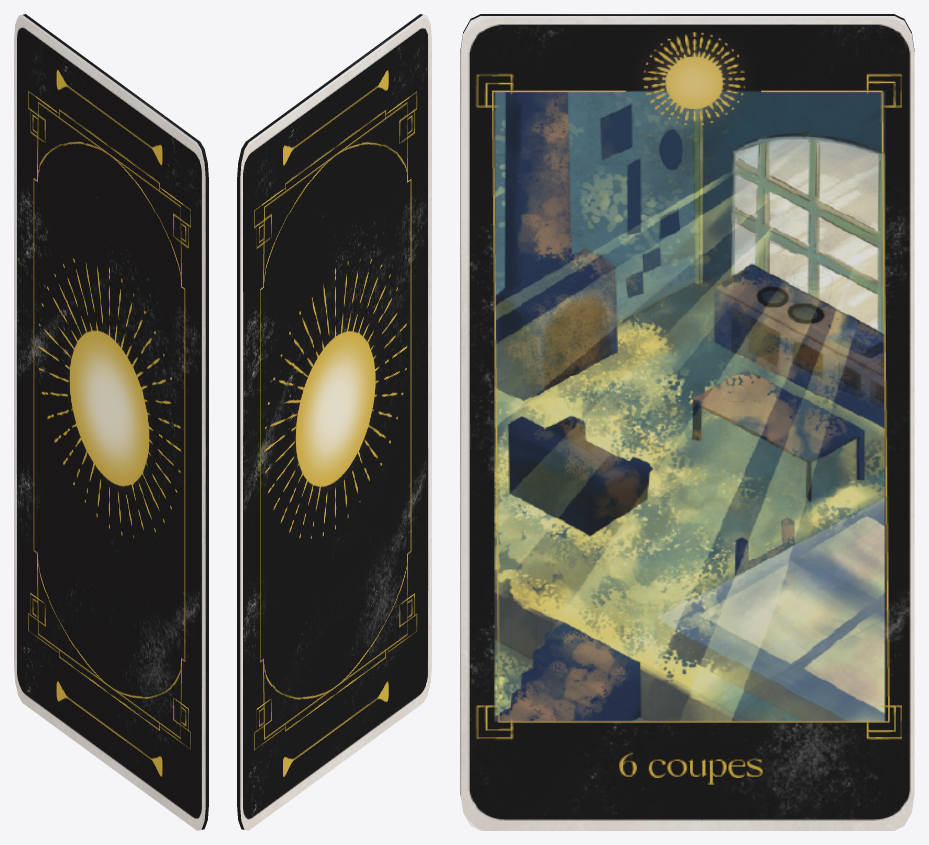
Rendered from 6_coupes.gltf.
The picture shows the model from 3 angles, left to right: view 1: azimuth 30°, elevation 25°; view 2: azimuth 150°, elevation 25°; view 3: azimuth 270°, elevation 25°; orthographic projection. The views are drawn at different scales.
Visible parts, largest first — view 1: 2 Batons; view 2: 2 Batons; view 3: 2 Batons.
Part boxes in pixels (<box>): 2 Batons: <box>14,14,208,830</box>; 2 Batons: <box>237,14,431,830</box>; 2 Batons: <box>460,14,914,830</box>.
Bounding box in the file's own units: 0.0191 × 3.96 × 2.
1 material, 1 textured.
